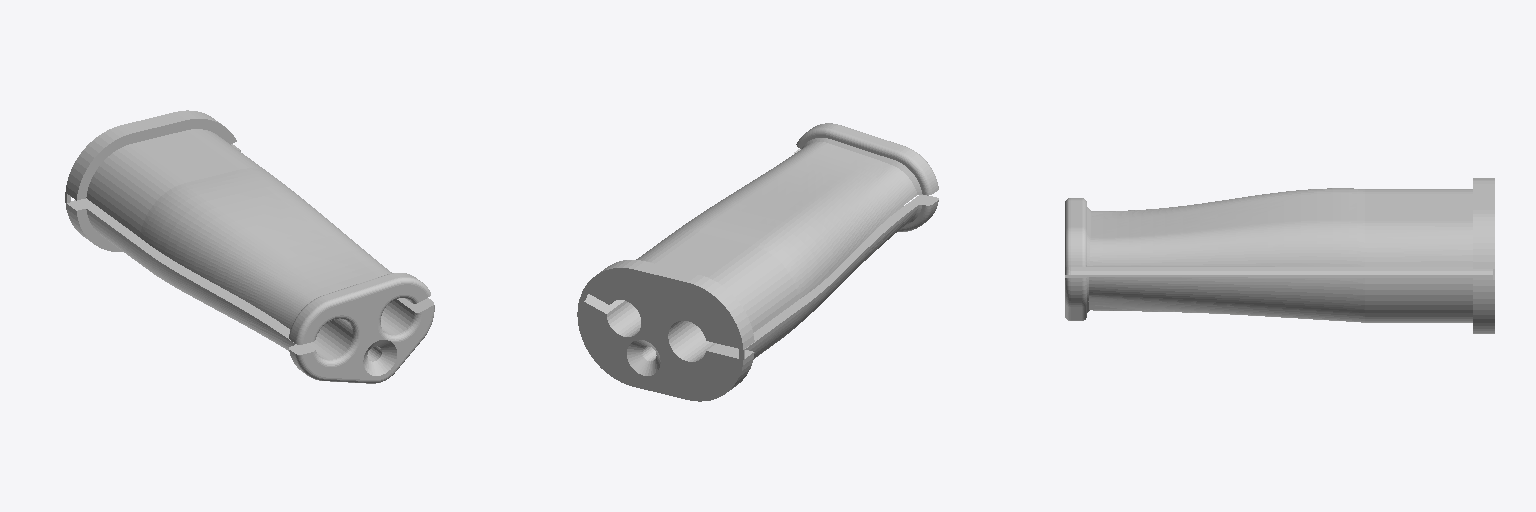
The model's file is [TPU] Strain Relief Left 4mm.obj.
The picture shows the model from 3 angles: view 1: azimuth 30°, elevation 25°; view 2: azimuth 150°, elevation 25°; view 3: azimuth 270°, elevation 25°; orthographic projection.
Bounding box in the file's own units: 17.17 × 11.6 × 38.5.